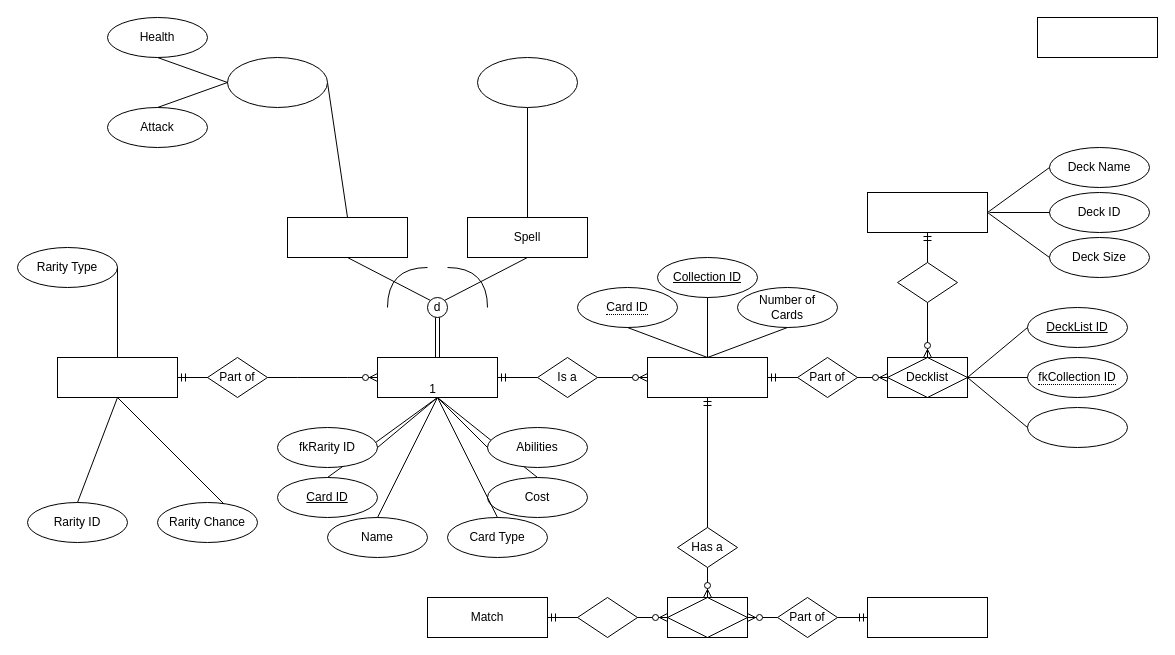
The diagram is 1175 pixels wide and 655 high, and some of its shapes have lost their labels. Each missing label, with the centre of its shape:
"BoardState" belongs at [707,617].
"Card" belongs at [437,377].
"Cast Speed" belongs at [527,82].
"Collection" belongs at [707,377].
"Contains" belongs at [607,617].
"Creature" belongs at [347,237].
"Deck" belongs at [927,212].
"fkDeckID" belongs at [1077,427].
"Has" belongs at [927,282].
"Pile" belongs at [927,617].
"Rarity" belongs at [117,377].
"Speed" belongs at [1097,37].
"Stats" belongs at [277,82].
